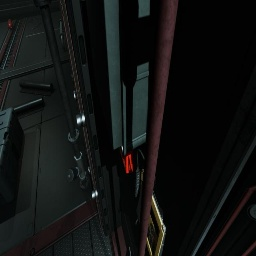EmergencyPhone ,: (135, 149, 171, 256)
FireAlarm ,: (119, 146, 133, 174)
FireExtinguisher ]: (8, 19, 14, 29), (10, 26, 10, 26)
